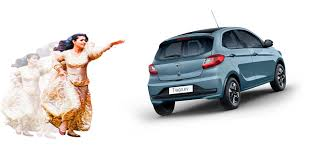Tiago: (146, 23, 286, 122)
